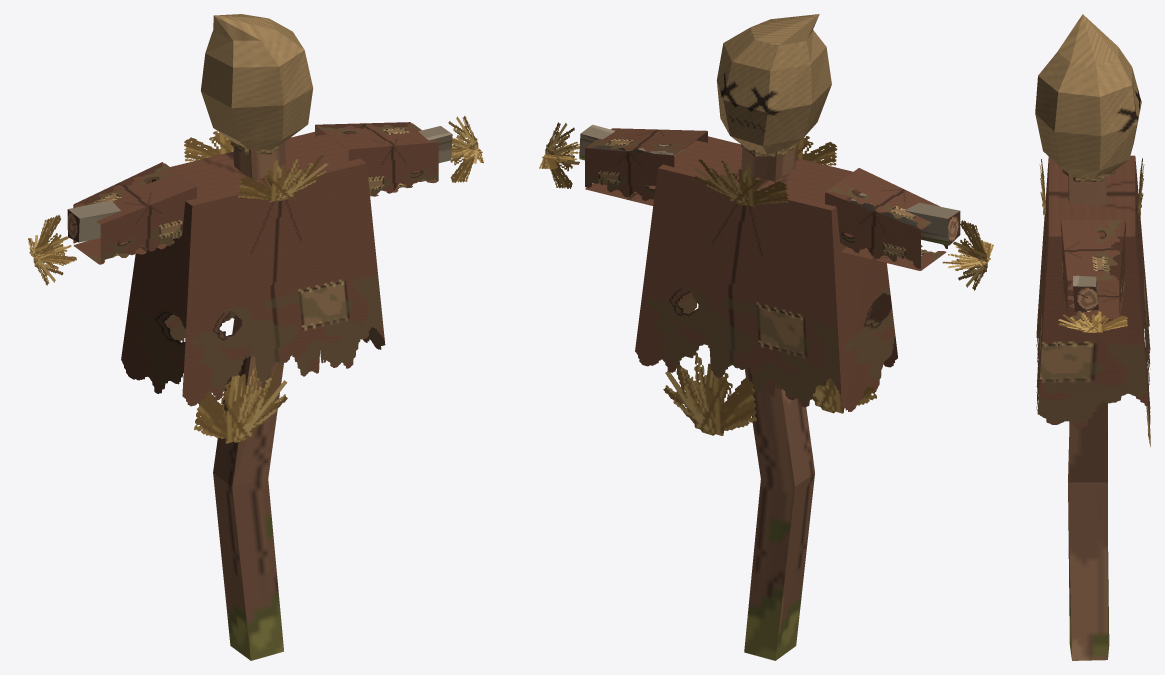
Rendered from SM_SP09_Scarecrow.fbx.
The picture shows the model from 3 angles, left to right: view 1: azimuth 30°, elevation 25°; view 2: azimuth 150°, elevation 25°; view 3: azimuth 270°, elevation 25°; orthographic projection. The views are drawn at different scales.
Visible parts, largest first — view 1: SP09_Dressing, SP09_Pole; view 2: SP09_Dressing, SP09_Pole; view 3: SP09_Dressing, SP09_Pole.
Part boxes in pixels (x1,y1,x2,y2): SP09_Dressing: [28, 14, 483, 443]; SP09_Pole: [67, 126, 452, 660]; SP09_Dressing: [539, 14, 993, 435]; SP09_Pole: [579, 124, 960, 660]; SP09_Dressing: [1035, 14, 1150, 447]; SP09_Pole: [1062, 169, 1115, 660].
Size of the model in its own units: 1.58 by 2.2 by 0.3737.
